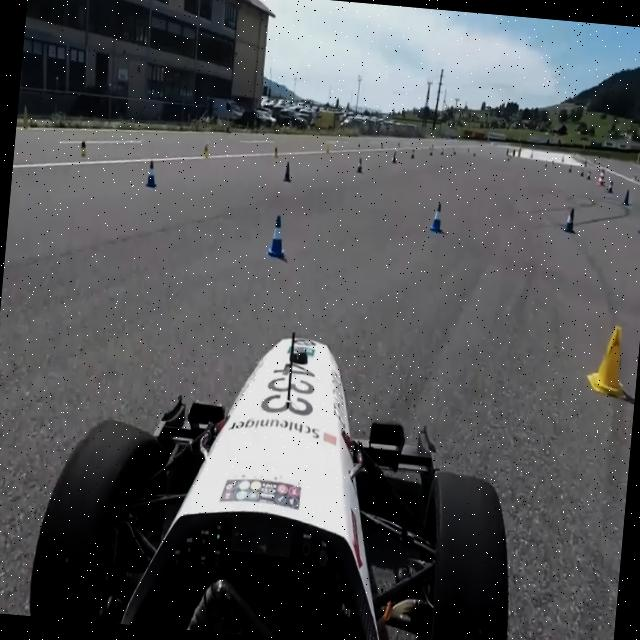blue_cone: (266, 207, 286, 260), (141, 156, 157, 190), (430, 198, 444, 235), (561, 204, 575, 232), (281, 156, 292, 184), (622, 186, 632, 208), (356, 152, 364, 176), (606, 178, 614, 198), (390, 149, 397, 164), (410, 146, 416, 160), (637, 209, 640, 236), (586, 167, 592, 179), (580, 166, 584, 176)
large_orange_cone: (596, 168, 604, 188)
yellow_cone: (580, 306, 635, 405), (76, 136, 88, 158), (202, 139, 210, 161), (272, 140, 280, 160), (323, 140, 329, 155)
